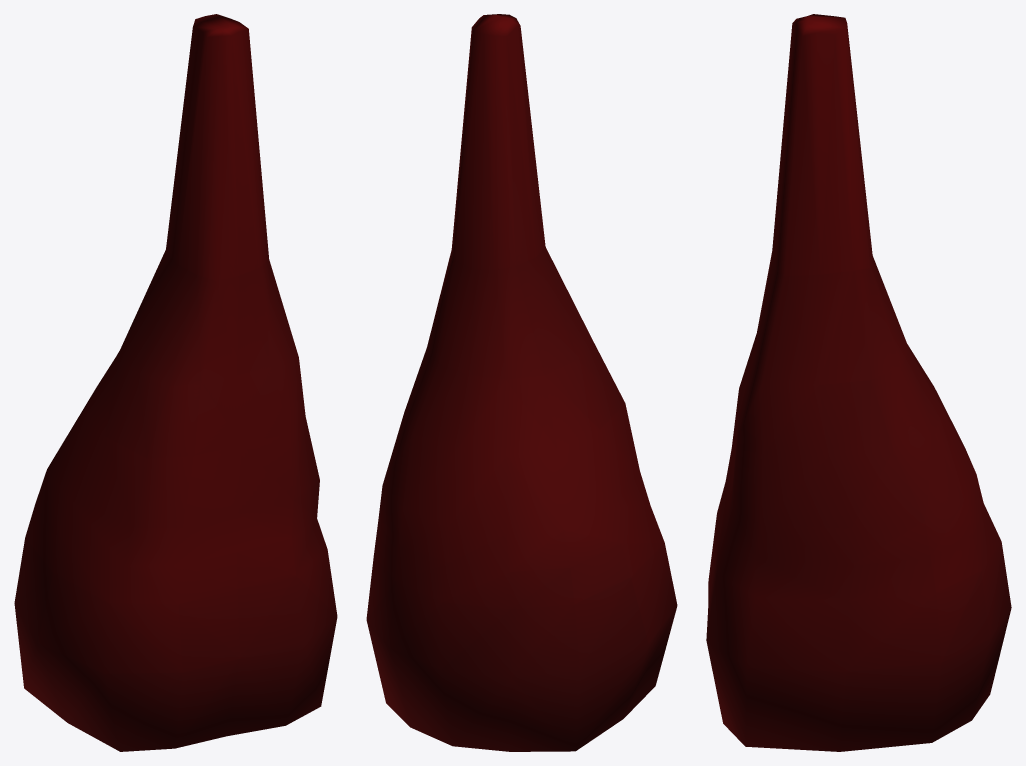
The model's file is geology-landforms-rockcanyonhuge_v1.fbx.
3 renders of one model, left to right at view 1: azimuth 30°, elevation 25°; view 2: azimuth 150°, elevation 25°; view 3: azimuth 270°, elevation 25°, orthographic. The views are drawn at different scales.
Visible parts, largest first — view 1: RockCanyonHuge_v1; view 2: RockCanyonHuge_v1; view 3: RockCanyonHuge_v1.
Boxes of the visible parts, x1,y1,x2,y2 form: RockCanyonHuge_v1: (14, 14, 337, 751); RockCanyonHuge_v1: (366, 14, 677, 751); RockCanyonHuge_v1: (706, 14, 1011, 751).
Bounding box in the file's own units: 19.14 × 47.26 × 18.86.
